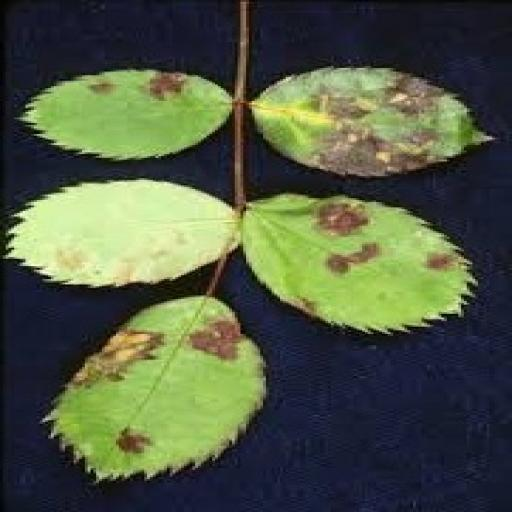downy_mildew: (49, 298, 265, 478), (244, 195, 475, 332), (252, 68, 489, 176), (9, 180, 237, 286), (23, 70, 231, 159)
